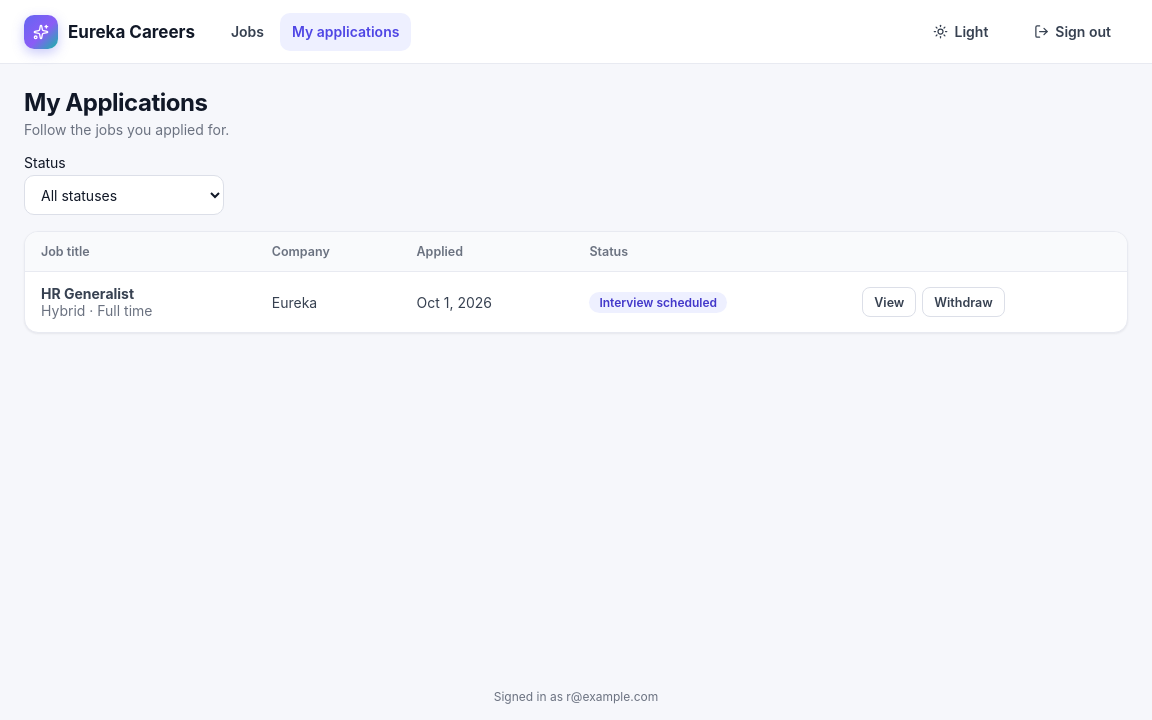
portal screens › My Applications: status, interviews without internal data, Withdraw confirmation
Click the button with aria-label "View application for HR Generalist": (889, 302) [862,287,916,317]
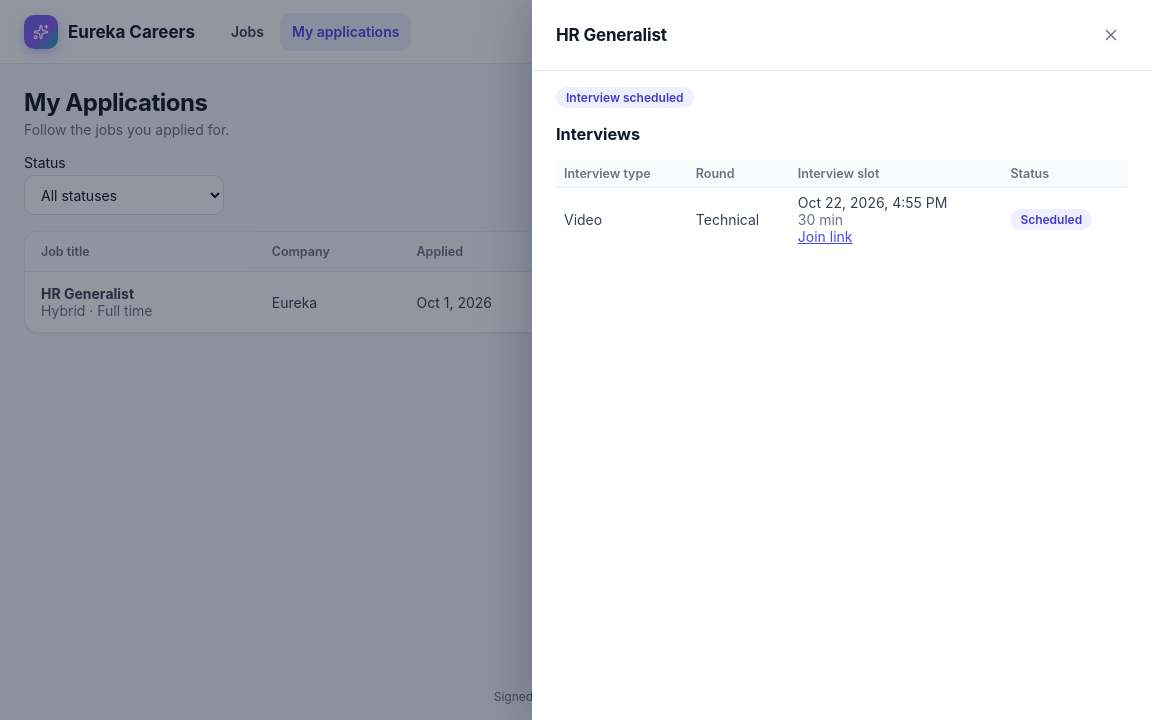
Result: the text "Technical" is shown at [688,188,790,251]
Result: the text "Video" is shown at [556,188,688,251]
Click the button named "Close application details": (1111, 35) [1094,18,1128,52]
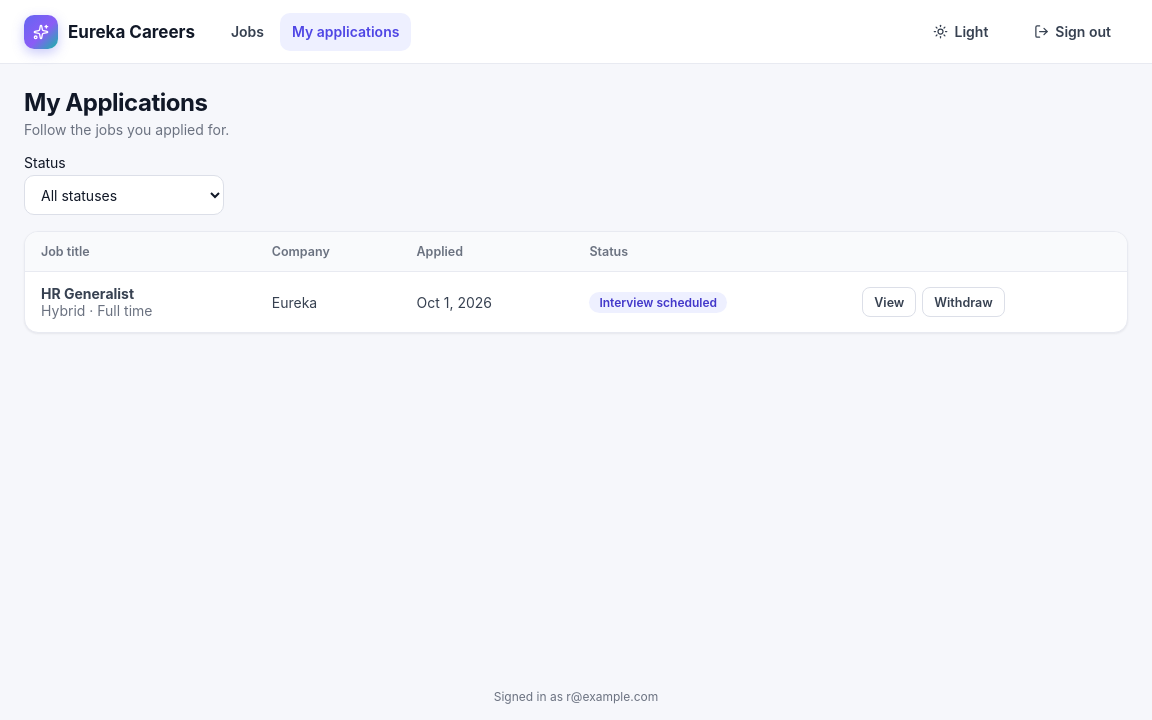
Click the button with aria-label "Withdraw application for HR Generalist": (964, 302) [922,287,1005,317]
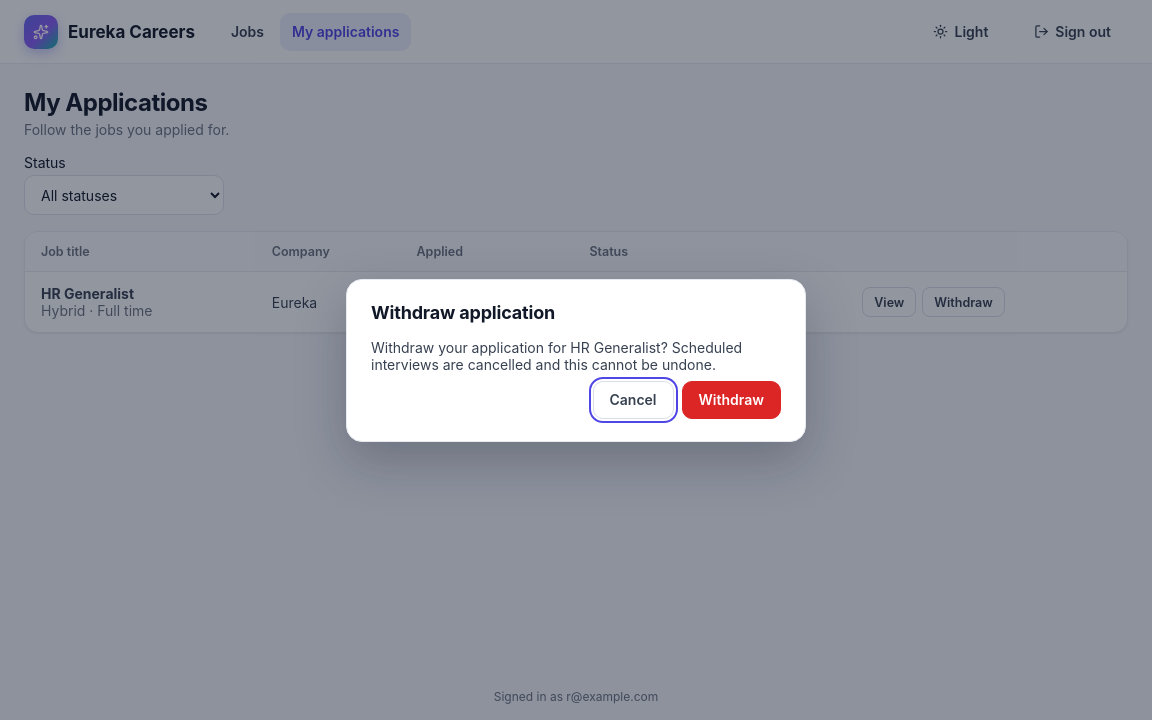
Click the button "Withdraw": (731, 400) [682,380,781,418]
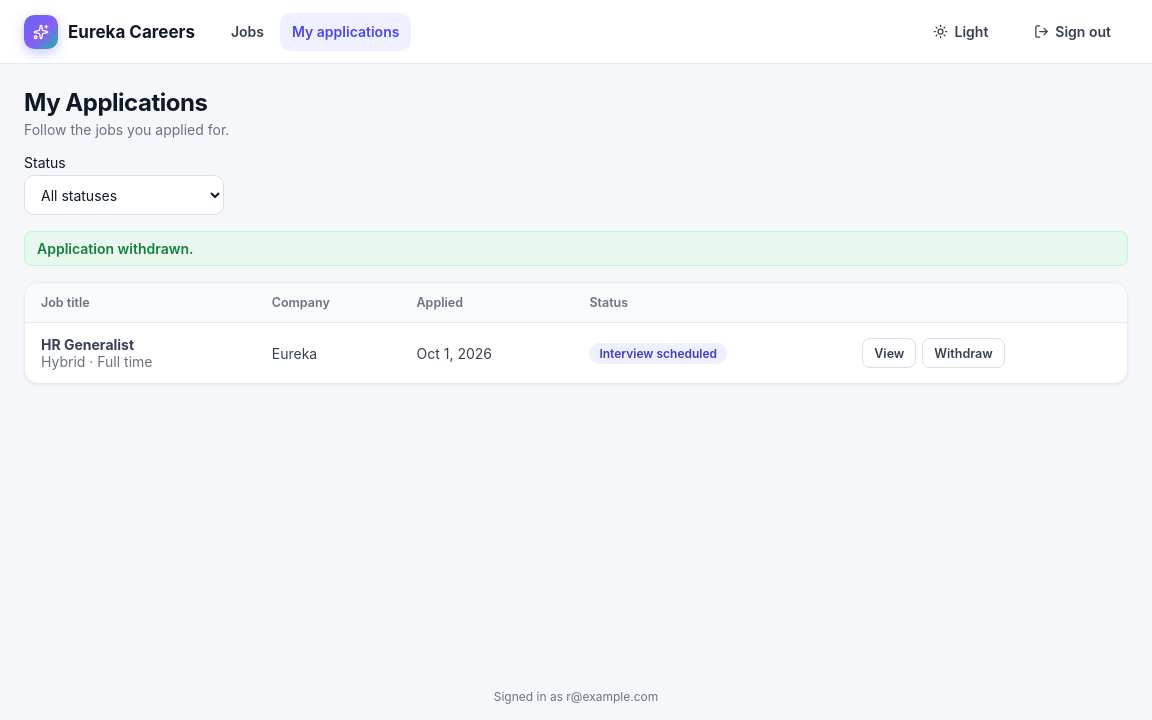
Result: the text "Application withdrawn." is shown at [24,231,1128,266]
